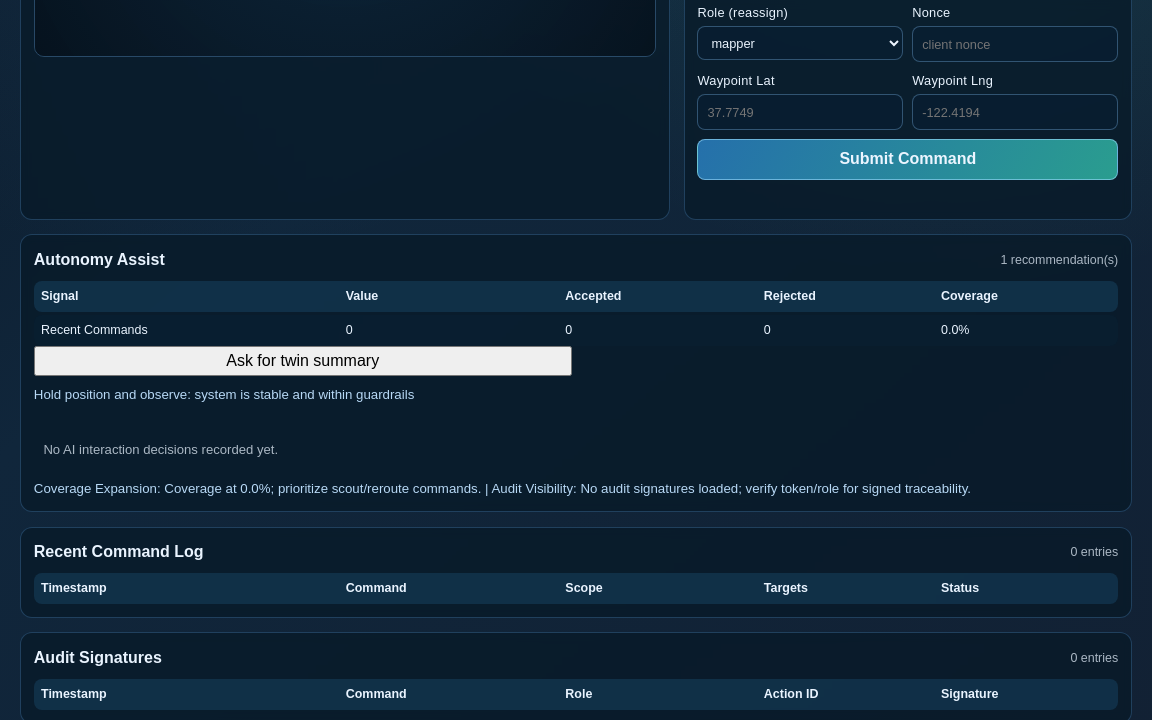
Test case: C2SwarmHUD › renders shared AI interaction actions and recommendations
(page scrolled)
Expected: the text "Hold position and observe: system is stable and within guardrails" is shown, [34,386,414,402]
Click the button "Ask for twin summary" at (303, 361), box [34,346,572,376]
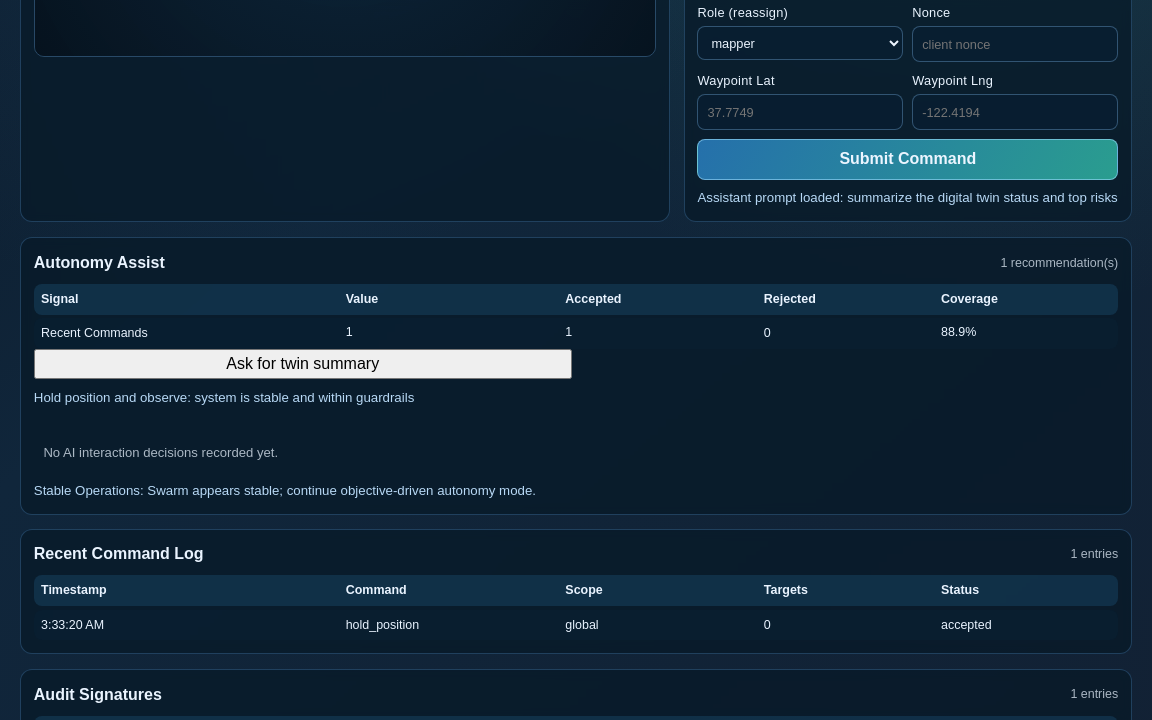
Expected: the text "Assistant prompt loaded: summarize the digital twin status and top risks" is shown, [698,188,1118,208]
